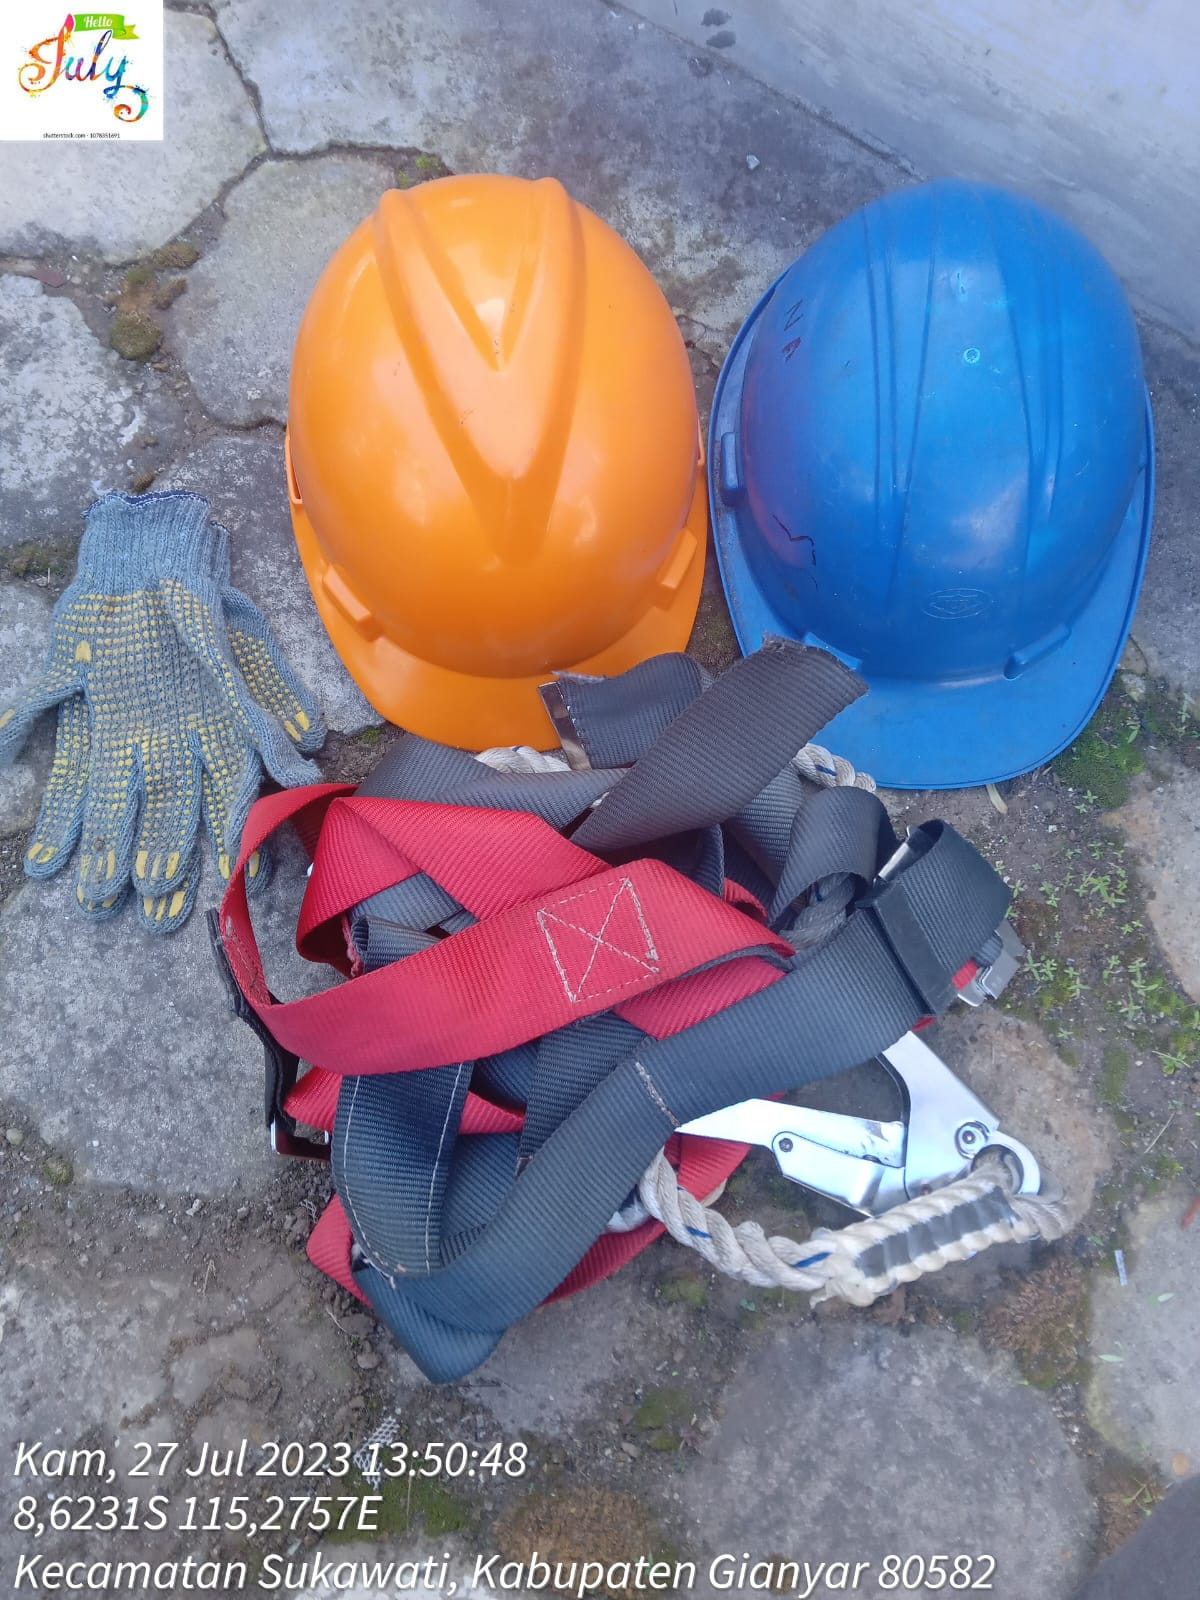HELM: (737, 204, 1132, 637)
TAMBANG_SLING: (262, 816, 976, 1293)
